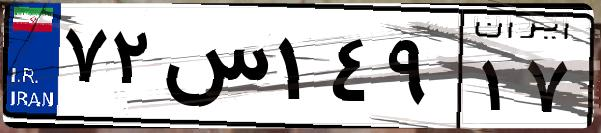1: (270, 28, 330, 110), (475, 38, 525, 113)
2: (110, 28, 158, 98)
4: (330, 28, 385, 110)
7: (57, 26, 110, 100), (525, 38, 570, 115)
9: (385, 28, 445, 110)
س: (158, 20, 270, 120)
